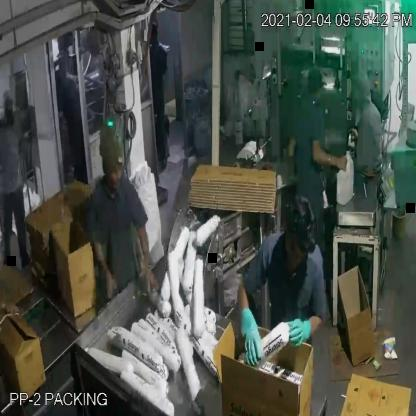glove: (234, 302, 266, 372), (282, 311, 323, 353)
no_glove: (81, 218, 118, 317), (131, 209, 157, 306), (308, 133, 351, 181)
